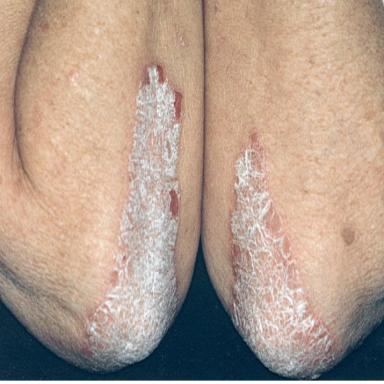Psoriasis: (85, 66, 181, 370), (231, 133, 335, 378)
